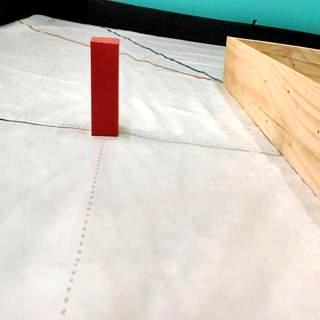redbox: (90, 35, 120, 136)
